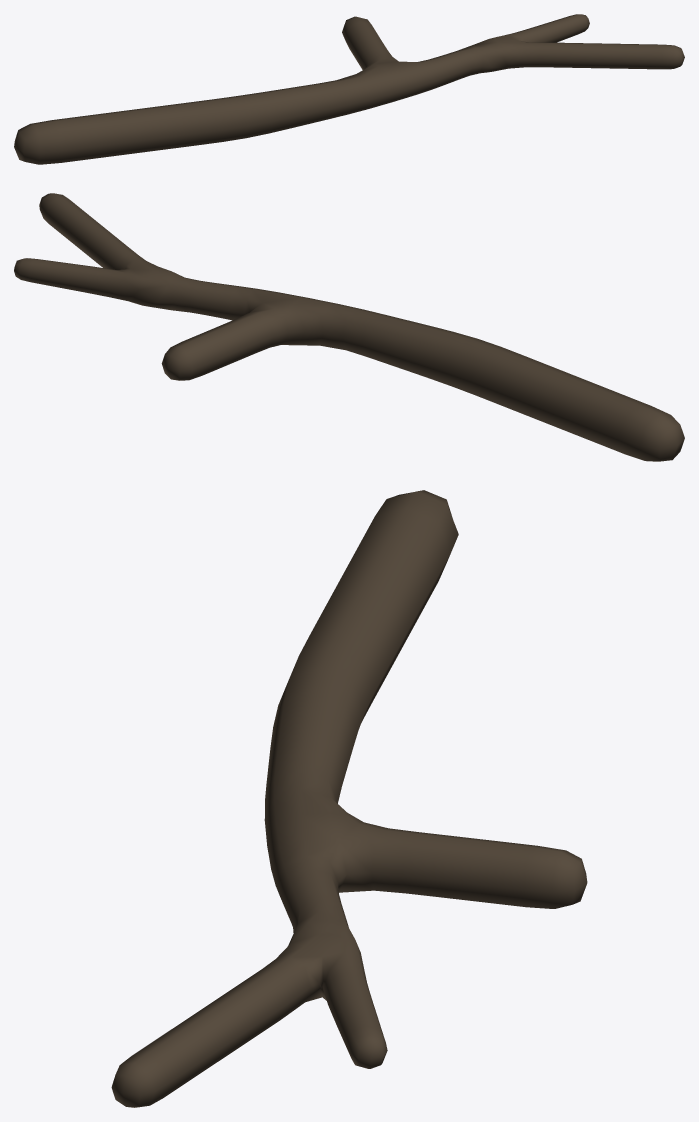
File: Branch4_1.fbx
The picture shows the model from 3 angles, top to bottom: view 1: azimuth 30°, elevation 25°; view 2: azimuth 150°, elevation 25°; view 3: azimuth 270°, elevation 25°; orthographic projection. The views are drawn at different scales.
Visible parts, largest first — view 1: Plane.011; view 2: Plane.011; view 3: Plane.011.
Boxes of the visible parts, x1=… form: Plane.011: x1=14, y1=14, x2=684, y2=164; Plane.011: x1=14, y1=193, x2=684, y2=461; Plane.011: x1=111, y1=490, x2=587, y2=1107.
Size of the model in its own units: 704 by 45.83 by 243.
